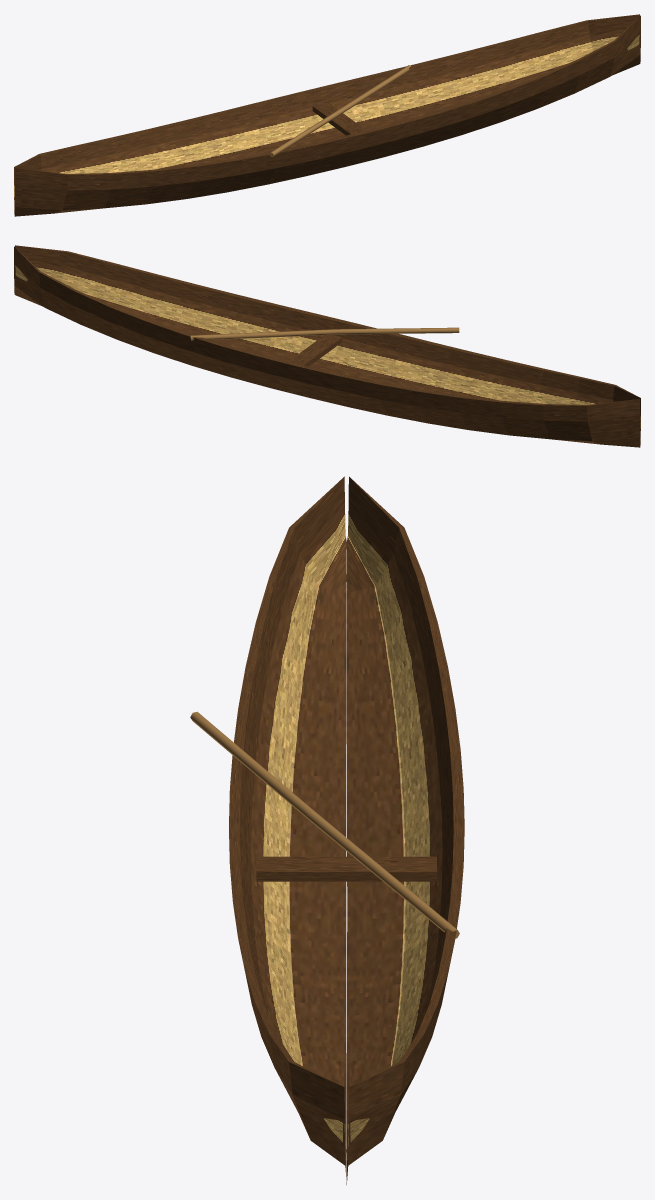
Rendered from pirogue.glb.
3 views of the same model, one above another, from view 1: azimuth 30°, elevation 25°; view 2: azimuth 150°, elevation 25°; view 3: azimuth 270°, elevation 25° (orthographic). The views are drawn at different scales.
Parts seen in each view (by area): view 1: pirogue; view 2: pirogue; view 3: pirogue.
Boxes of the visible parts, x1=… form: pirogue: x1=14, y1=14, x2=640, y2=216; pirogue: x1=14, y1=245, x2=640, y2=447; pirogue: x1=190, y1=476, x2=464, y2=1184.
Bounding box in the file's own units: 4 × 0.44 × 0.7596.
Materials: 2 (1 with a texture image).
